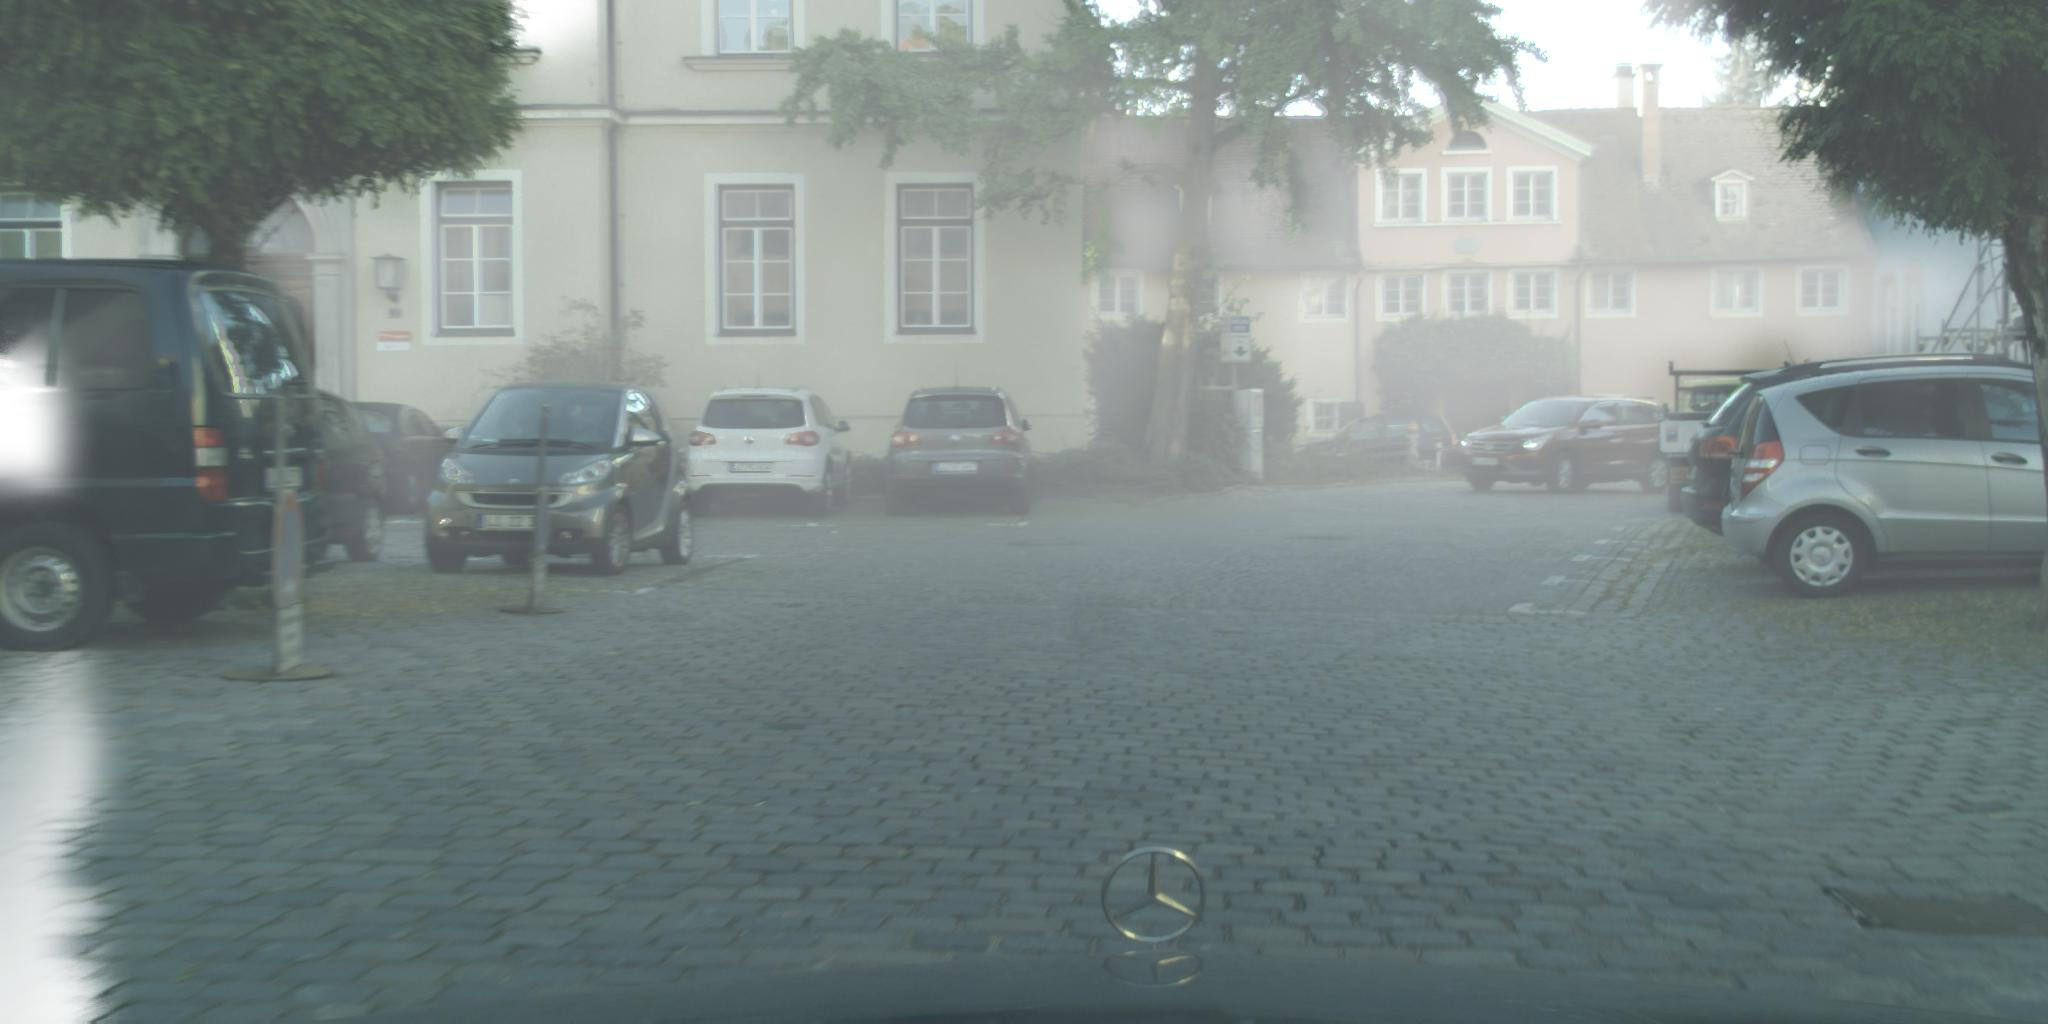car: (1, 259, 349, 654), (1721, 364, 2048, 603), (1680, 353, 2039, 539), (423, 380, 697, 579), (686, 375, 854, 519), (1452, 397, 1677, 498), (887, 377, 1034, 520), (300, 384, 391, 566), (353, 404, 461, 516), (1298, 415, 1465, 472)
truck: (1659, 359, 1791, 516)
